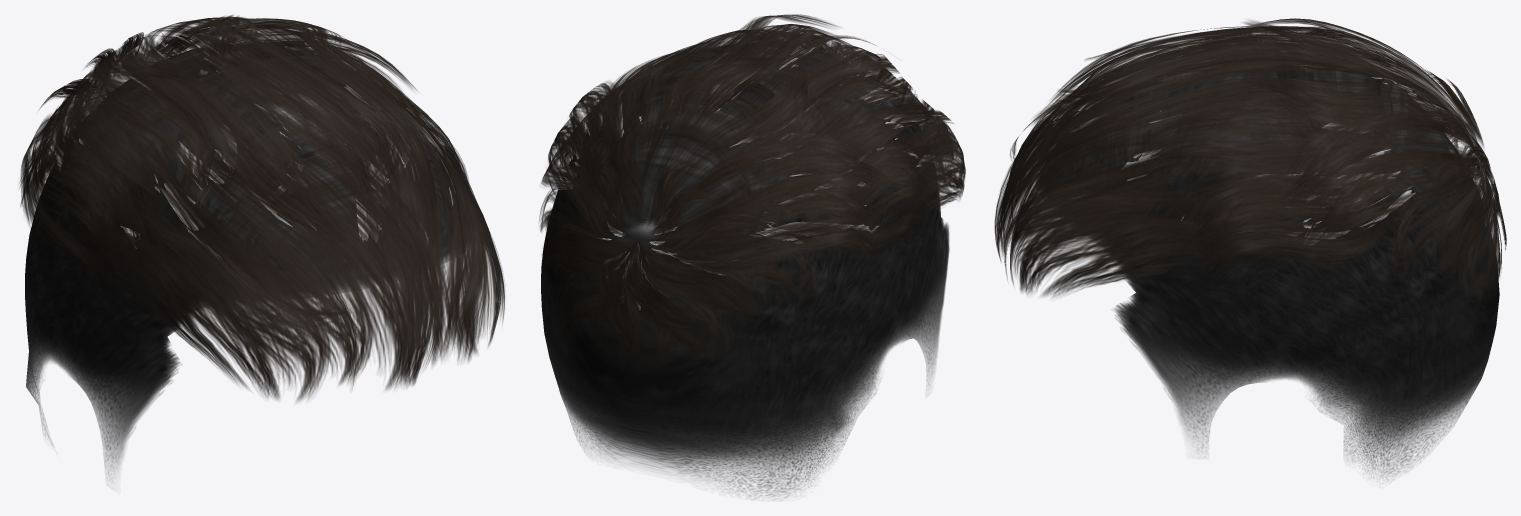
The model's file is Wavy_FrenchCrop.glb.
3 renders of one model, left to right at view 1: azimuth 30°, elevation 25°; view 2: azimuth 150°, elevation 25°; view 3: azimuth 270°, elevation 25°, orthographic. The views are drawn at different scales.
Visible parts, largest first — view 1: s4studio_mesh_4.001, face.002_Plane.003; view 2: s4studio_mesh_4.001, face.002_Plane.003; view 3: s4studio_mesh_4.001, face.002_Plane.003.
Part boxes in pixels (x1,y1,x2,y2): s4studio_mesh_4.001: (19,15,504,401); face.002_Plane.003: (25,43,469,479); s4studio_mesh_4.001: (539,14,965,370); face.002_Plane.003: (541,43,949,499); s4studio_mesh_4.001: (994,18,1506,304); face.002_Plane.003: (1036,45,1499,480).
Size of the model in its own units: 0.186 by 0.2123 by 0.2406.
2 materials, 2 textured.
